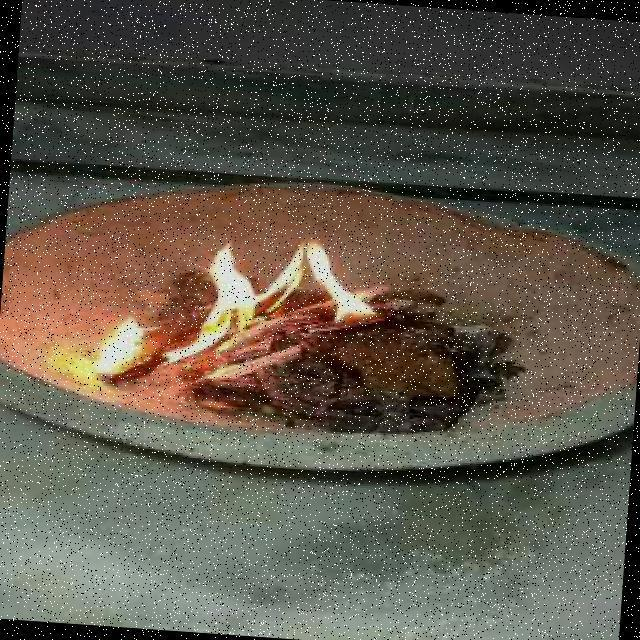fire: (55, 222, 403, 407)
